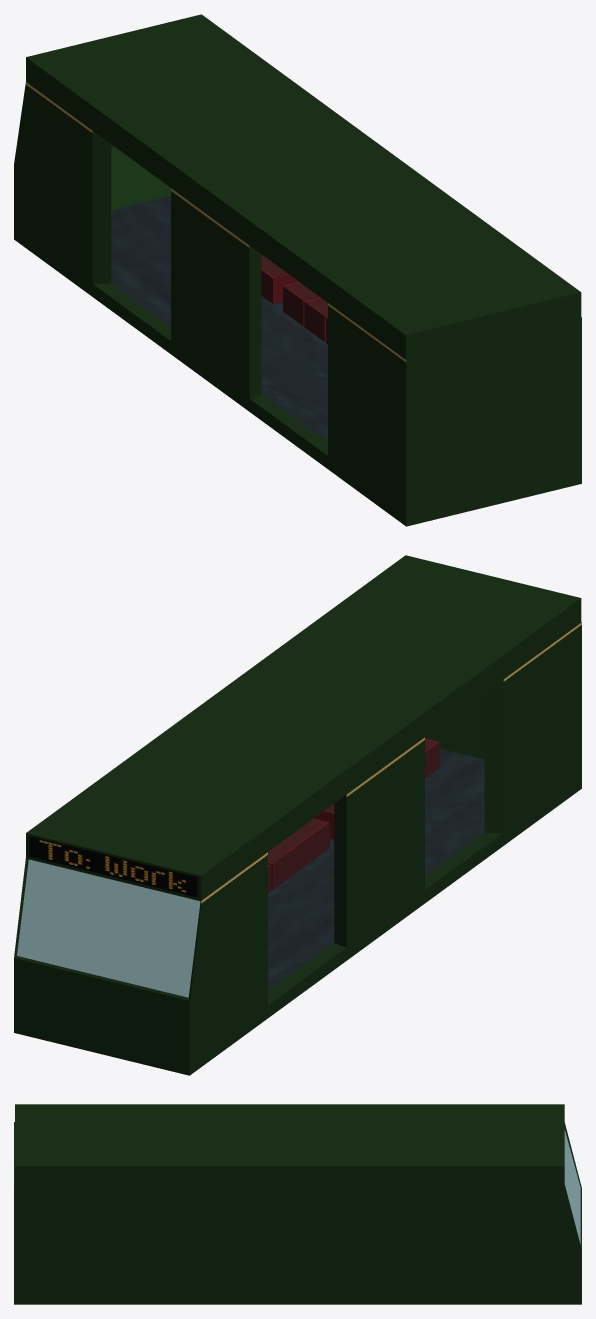
File: train.fbx
3 renders of one model, top to bottom at view 1: azimuth 30°, elevation 25°; view 2: azimuth 150°, elevation 25°; view 3: azimuth 270°, elevation 25°, orthographic. The views are drawn at different scales.
Visible parts, largest first — view 1: Cube; view 2: Cube; view 3: Cube.
Part boxes in pixels (x1,y1,x2,y2): Cube: [14, 14, 581, 526]; Cube: [14, 555, 581, 1075]; Cube: [14, 1104, 581, 1304].
Size of the model in its own units: 994 by 1033 by 3845.
1 material, 1 textured.
